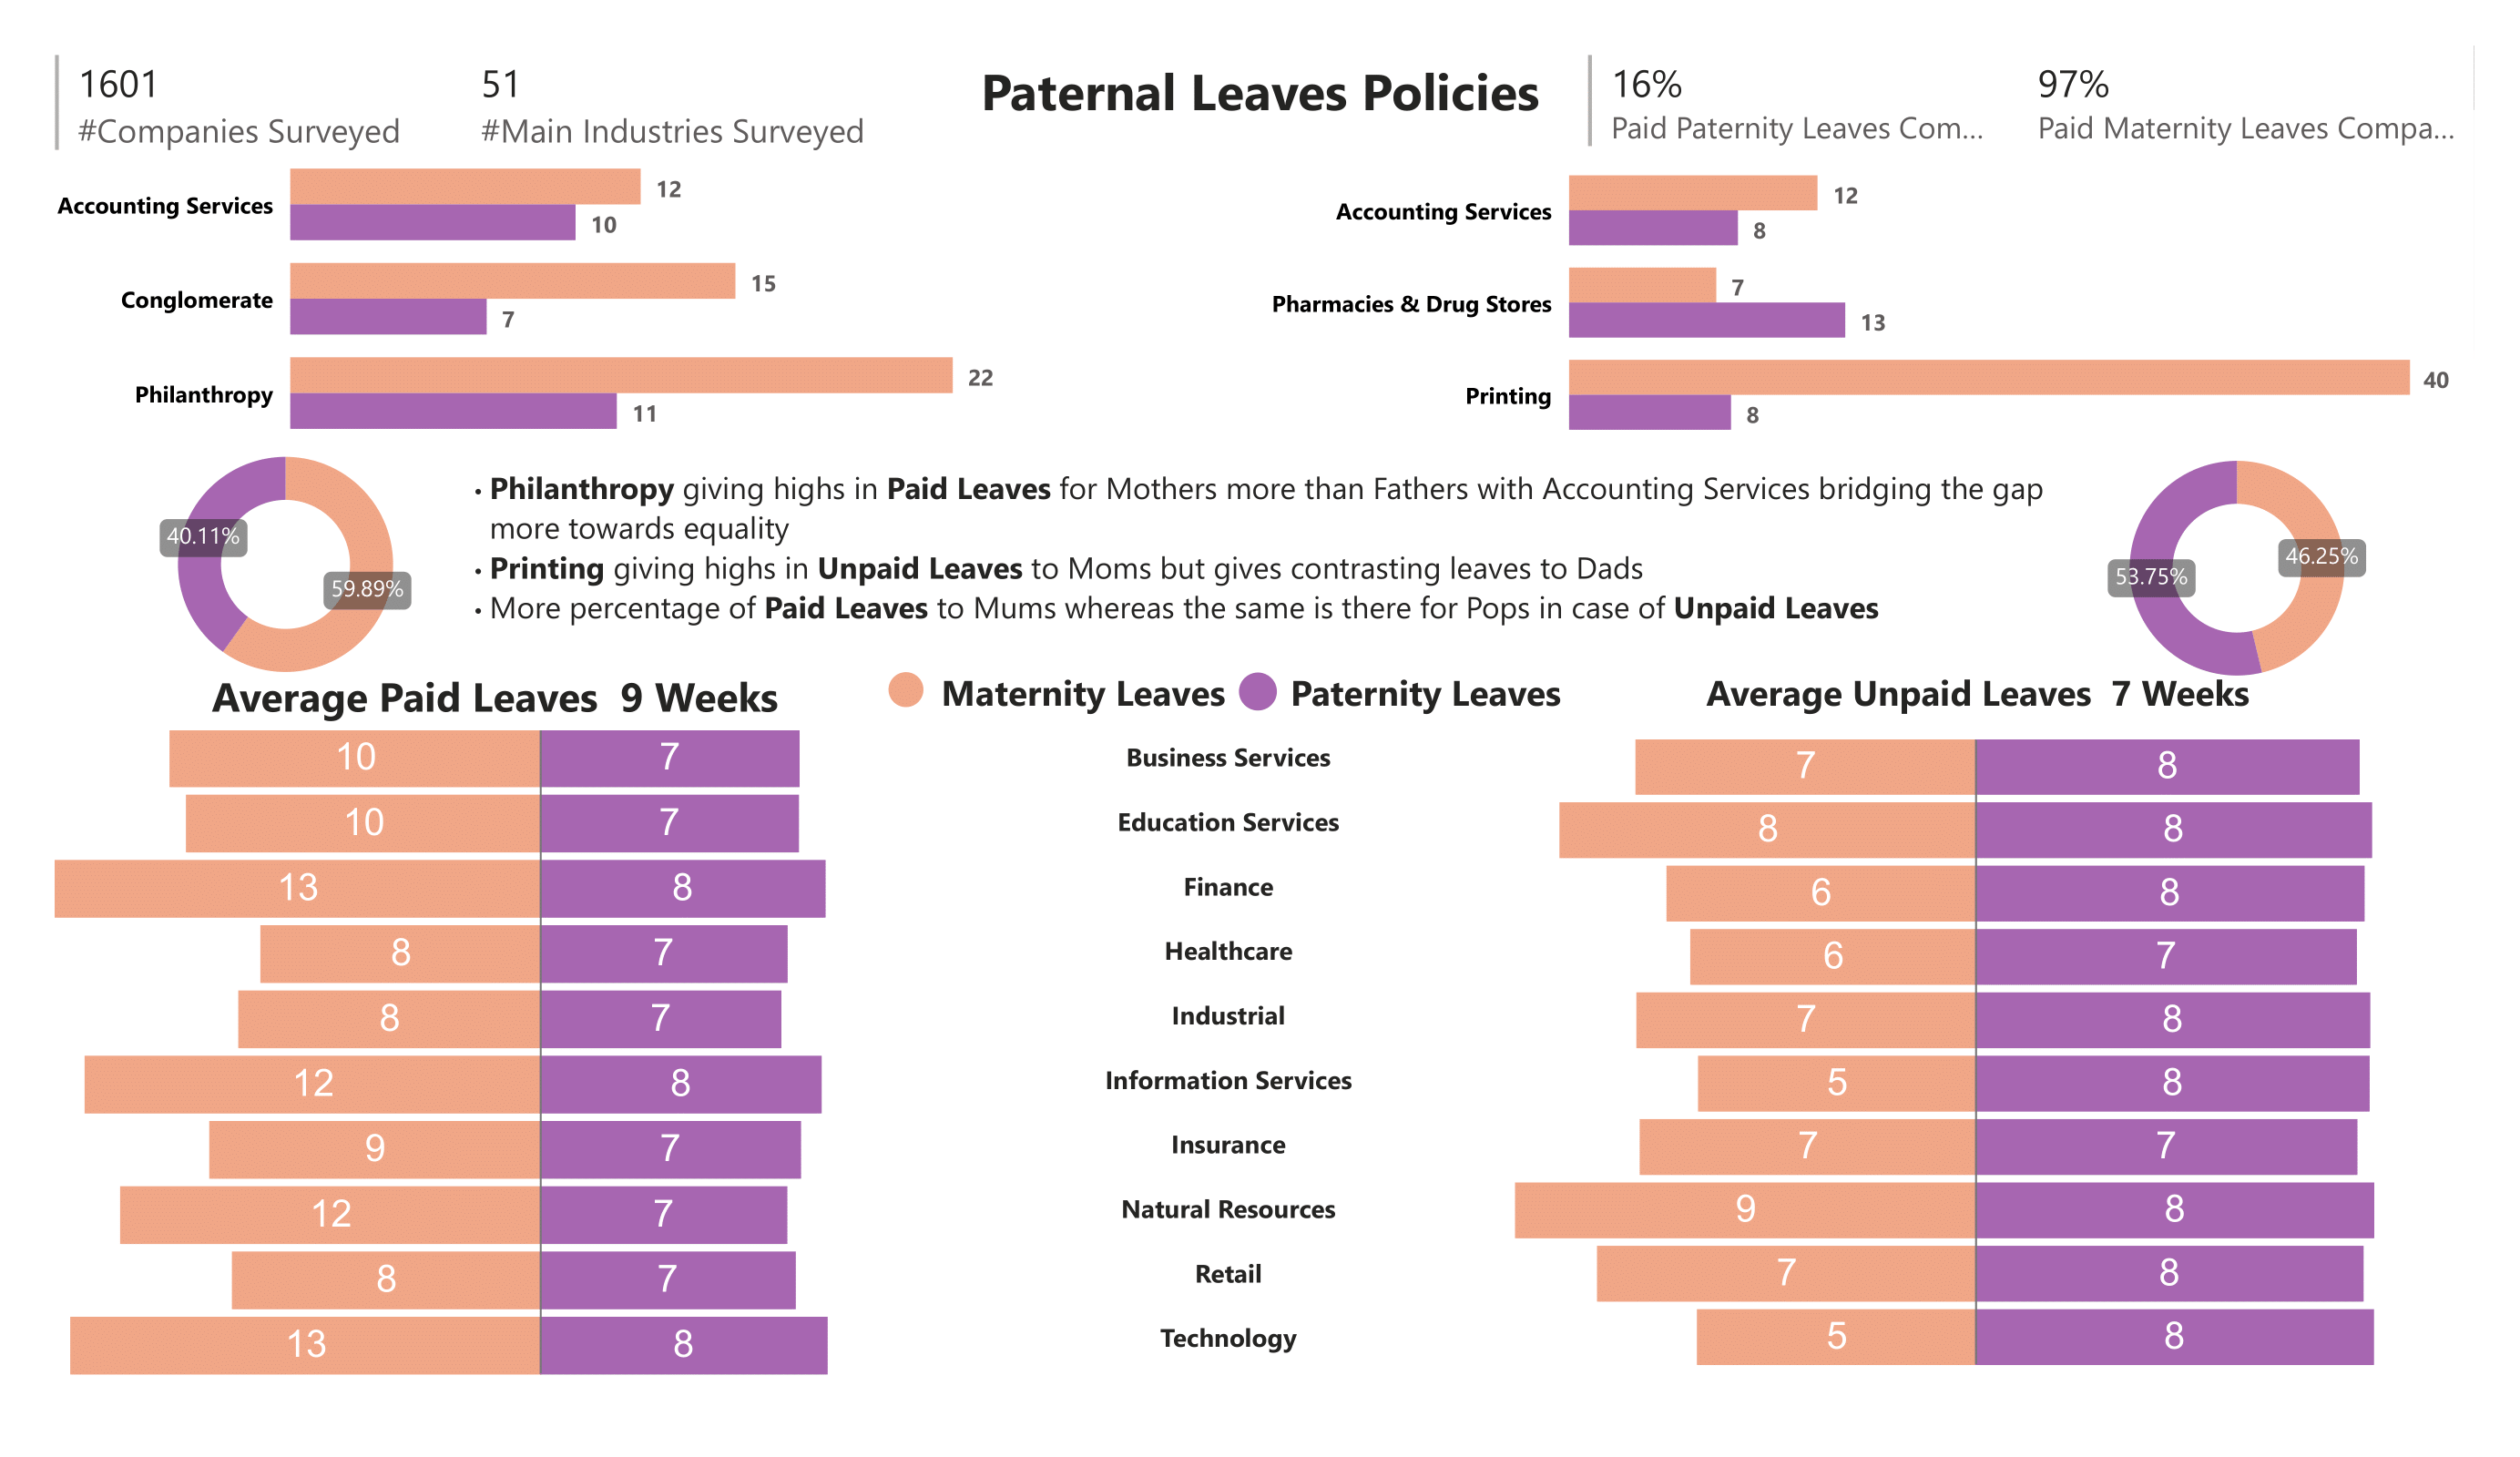

This screenshot's page, from the dashboard's own definition file:
{"tool":"powerbi","page":{"name":"Page 1","canvas":[1280,720],"ordinal":0},"visuals":[{"type":"TornadoChart1452517688218","fields":{"Category":["Industries.Domain"],"Values":["DAX.Average PML","DAX.Average PPL"]},"box":[0,360.7,550.4,359.3],"z":0},{"type":"TornadoChart1452517688218","fields":{"Category":["Industries.Domain"],"Values":["DAX.Average UML","DAX.Average UPL"]},"box":[757.4,360.7,523.1,359.3],"z":1000},{"type":"textbox","box":[378,360.7,491.5,342],"z":2000},{"type":"textbox","box":[0,323.4,474.3,58.9],"z":3000},{"type":"textbox","box":[757.4,323.4,523.1,58.9],"z":4000},{"type":"pieChart","fields":{"Y":["DAX.n"]},"box":[432.6,323.4,41.7,33.1],"z":5000},{"type":"textbox","box":[454.1,323.4,185.4,58.9],"z":6000},{"type":"pieChart","fields":{"Y":["DAX.n"]},"box":[618,323.4,41.7,34.5],"z":7000},{"type":"textbox","box":[623.7,323.4,206.9,58.9],"z":8000},{"type":"donutChart","fields":{"Y":["DAX.Average PML","DAX.Average PPL"]},"box":[0,192.6,252.9,161],"z":9000},{"type":"donutChart","fields":{"Y":["DAX.Average UML","DAX.Average UPL"]},"box":[1030.4,195.4,250.1,161],"z":10000},{"type":"multiRowCard","fields":{"Values":["DAX.#Companies Surveyed","DAX.#Main Industries Surveyed"]},"box":[0,0,446.9,71.9],"z":11000},{"type":"clusteredBarChart","fields":{"Y":["DAX.Average PML","DAX.Average PPL"],"Category":["Industries.Domain"]},"box":[0,31.6,505.9,196.9],"z":12000},{"type":"clusteredBarChart","fields":{"Y":["DAX.Average UML","DAX.Average UPL"],"Category":["Industries.Domain"]},"box":[639.5,35.9,632.3,192.6],"z":13000},{"type":"textbox","box":[0,0,1280.5,61.8],"z":14000},{"type":"multiRowCard","fields":{"Values":["DAX.comp ppl","DAX.Companies providing Paid Maternity Leaves"]},"box":[807.7,0,472.8,61.8],"z":15000},{"type":"textbox","box":[211.3,217,858,106.3],"z":16000}]}

Visuals, with their boxes in screenshot pixels (x1, y1, x2, y2):
TornadoChart1452517688218 - Industries.Domain x DAX.Average PML: [46, 729, 1090, 1411]
TornadoChart1452517688218 - Industries.Domain x DAX.Average UML: [1483, 729, 2474, 1411]
textbox: [763, 729, 1696, 1379]
textbox: [46, 659, 945, 770]
textbox: [1483, 659, 2474, 770]
pieChart - DAX.n: [866, 659, 945, 722]
textbox: [907, 659, 1259, 770]
pieChart - DAX.n: [1219, 659, 1298, 725]
textbox: [1229, 659, 1622, 770]
donutChart - DAX.Average PML x DAX.Average PPL: [46, 411, 525, 717]
donutChart - DAX.Average UML x DAX.Average UPL: [2001, 416, 2474, 721]
multiRowCard - DAX.#Companies Surveyed x DAX.#Main Industries Surveyed: [46, 46, 893, 182]
clusteredBarChart - DAX.Average PML x DAX.Average PPL: [46, 106, 1005, 479]
clusteredBarChart - DAX.Average UML x DAX.Average UPL: [1259, 114, 2459, 479]
textbox: [46, 46, 2474, 163]
multiRowCard - DAX.comp ppl x DAX.Companies providing Paid Maternity Leaves: [1578, 46, 2474, 163]
textbox: [446, 457, 2075, 659]
